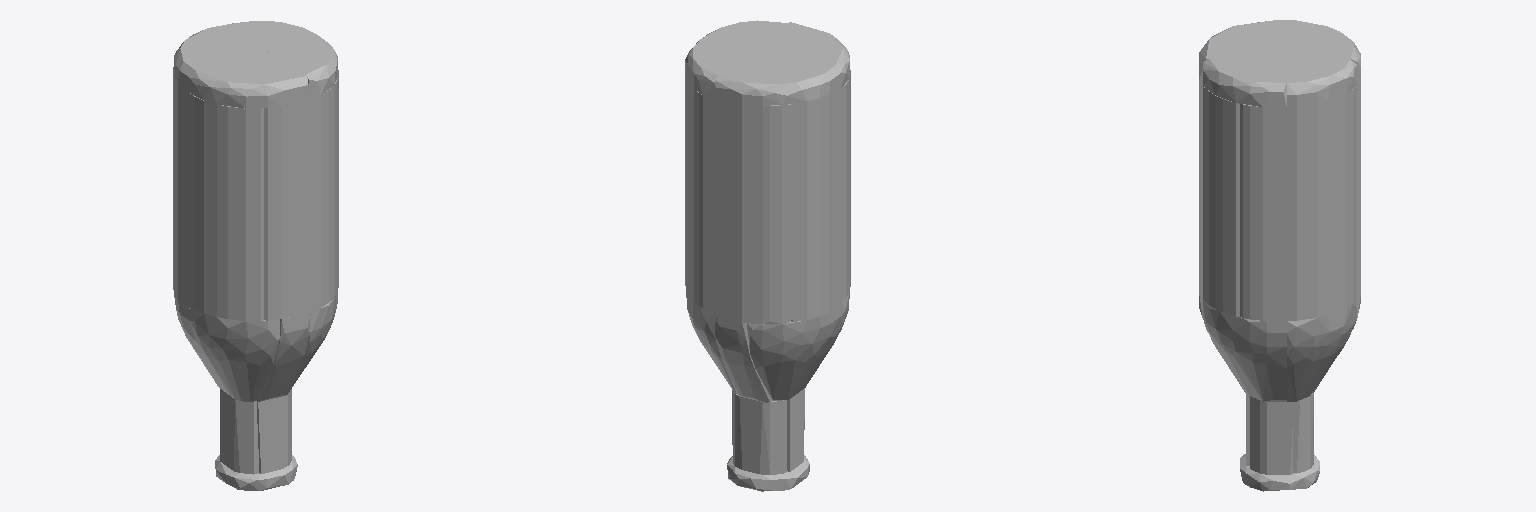
URDF robot description (root):
<robot name="root">
  <link name="link_d851cbc873de1c4d3b6eb309177a6753_convex_piece_0">
    <inertial>
      <origin rpy="0 0 0" xyz="0 0 0"/>
      <mass value="9.57E-07"/>
      <inertia ixx="3.82E-09" ixy="2.97E-13" ixz="-2.05E-13" iyy="3.82E-09" iyz="1.57E-12" izz="6.26E-11"/>
    </inertial>
    <visual>
      <origin rpy="0 0 0" xyz="0 0 0"/>
      <geometry>
        <mesh filename="d851cbc873de1c4d3b6eb309177a6753_convex_piece_0.obj" scale="1.0000E+00"/>
      </geometry>
      <material name="">
        <color rgba="7.50E-01 7.50E-01 7.50E-01 1"/>
      </material>
    </visual>
    <collision>
      <origin rpy="0 0 0" xyz="0 0 0"/>
      <geometry>
        <mesh filename="d851cbc873de1c4d3b6eb309177a6753_convex_piece_0.obj" scale="1.0000E+00"/>
      </geometry>
    </collision>
  </link>
  <link name="link_d851cbc873de1c4d3b6eb309177a6753_convex_piece_1">
    <inertial>
      <origin rpy="0 0 0" xyz="0 0 0"/>
      <mass value="8.84E-08"/>
      <inertia ixx="2.17E-10" ixy="1.39E-13" ixz="6.87E-13" iyy="2.10E-10" iyz="4.02E-11" izz="7.75E-12"/>
    </inertial>
    <visual>
      <origin rpy="0 0 0" xyz="0 0 0"/>
      <geometry>
        <mesh filename="d851cbc873de1c4d3b6eb309177a6753_convex_piece_1.obj" scale="1.0000E+00"/>
      </geometry>
      <material name="">
        <color rgba="7.50E-01 7.50E-01 7.50E-01 1"/>
      </material>
    </visual>
    <collision>
      <origin rpy="0 0 0" xyz="0 0 0"/>
      <geometry>
        <mesh filename="d851cbc873de1c4d3b6eb309177a6753_convex_piece_1.obj" scale="1.0000E+00"/>
      </geometry>
    </collision>
  </link>
  <joint name="link_d851cbc873de1c4d3b6eb309177a6753_convex_piece_1_joint" type="fixed">
    <origin rpy="0 0 0" xyz="0 0 0"/>
    <parent link="link_d851cbc873de1c4d3b6eb309177a6753_convex_piece_0"/>
    <child link="link_d851cbc873de1c4d3b6eb309177a6753_convex_piece_1"/>
  </joint>
  <link name="link_d851cbc873de1c4d3b6eb309177a6753_convex_piece_2">
    <inertial>
      <origin rpy="0 0 0" xyz="0 0 0"/>
      <mass value="9.40E-07"/>
      <inertia ixx="2.29E-09" ixy="3.52E-13" ixz="-2.58E-12" iyy="2.26E-09" iyz="-3.07E-10" izz="6.02E-11"/>
    </inertial>
    <visual>
      <origin rpy="0 0 0" xyz="0 0 0"/>
      <geometry>
        <mesh filename="d851cbc873de1c4d3b6eb309177a6753_convex_piece_2.obj" scale="1.0000E+00"/>
      </geometry>
      <material name="">
        <color rgba="7.50E-01 7.50E-01 7.50E-01 1"/>
      </material>
    </visual>
    <collision>
      <origin rpy="0 0 0" xyz="0 0 0"/>
      <geometry>
        <mesh filename="d851cbc873de1c4d3b6eb309177a6753_convex_piece_2.obj" scale="1.0000E+00"/>
      </geometry>
    </collision>
  </link>
  <joint name="link_d851cbc873de1c4d3b6eb309177a6753_convex_piece_2_joint" type="fixed">
    <origin rpy="0 0 0" xyz="0 0 0"/>
    <parent link="link_d851cbc873de1c4d3b6eb309177a6753_convex_piece_1"/>
    <child link="link_d851cbc873de1c4d3b6eb309177a6753_convex_piece_2"/>
  </joint>
  <link name="link_d851cbc873de1c4d3b6eb309177a6753_convex_piece_3">
    <inertial>
      <origin rpy="0 0 0" xyz="0 0 0"/>
      <mass value="1.51E-06"/>
      <inertia ixx="6.04E-09" ixy="1.08E-10" ixz="-7.04E-10" iyy="5.96E-09" iyz="-1.09E-09" izz="4.06E-10"/>
    </inertial>
    <visual>
      <origin rpy="0 0 0" xyz="0 0 0"/>
      <geometry>
        <mesh filename="d851cbc873de1c4d3b6eb309177a6753_convex_piece_3.obj" scale="1.0000E+00"/>
      </geometry>
      <material name="">
        <color rgba="7.50E-01 7.50E-01 7.50E-01 1"/>
      </material>
    </visual>
    <collision>
      <origin rpy="0 0 0" xyz="0 0 0"/>
      <geometry>
        <mesh filename="d851cbc873de1c4d3b6eb309177a6753_convex_piece_3.obj" scale="1.0000E+00"/>
      </geometry>
    </collision>
  </link>
  <joint name="link_d851cbc873de1c4d3b6eb309177a6753_convex_piece_3_joint" type="fixed">
    <origin rpy="0 0 0" xyz="0 0 0"/>
    <parent link="link_d851cbc873de1c4d3b6eb309177a6753_convex_piece_2"/>
    <child link="link_d851cbc873de1c4d3b6eb309177a6753_convex_piece_3"/>
  </joint>
  <link name="link_d851cbc873de1c4d3b6eb309177a6753_convex_piece_4">
    <inertial>
      <origin rpy="0 0 0" xyz="0 0 0"/>
      <mass value="1.60E-06"/>
      <inertia ixx="6.42E-09" ixy="-9.16E-11" ixz="-7.67E-10" iyy="6.39E-09" iyz="9.49E-10" izz="3.89E-10"/>
    </inertial>
    <visual>
      <origin rpy="0 0 0" xyz="0 0 0"/>
      <geometry>
        <mesh filename="d851cbc873de1c4d3b6eb309177a6753_convex_piece_4.obj" scale="1.0000E+00"/>
      </geometry>
      <material name="">
        <color rgba="7.50E-01 7.50E-01 7.50E-01 1"/>
      </material>
    </visual>
    <collision>
      <origin rpy="0 0 0" xyz="0 0 0"/>
      <geometry>
        <mesh filename="d851cbc873de1c4d3b6eb309177a6753_convex_piece_4.obj" scale="1.0000E+00"/>
      </geometry>
    </collision>
  </link>
  <joint name="link_d851cbc873de1c4d3b6eb309177a6753_convex_piece_4_joint" type="fixed">
    <origin rpy="0 0 0" xyz="0 0 0"/>
    <parent link="link_d851cbc873de1c4d3b6eb309177a6753_convex_piece_3"/>
    <child link="link_d851cbc873de1c4d3b6eb309177a6753_convex_piece_4"/>
  </joint>
  <link name="link_d851cbc873de1c4d3b6eb309177a6753_convex_piece_5">
    <inertial>
      <origin rpy="0 0 0" xyz="0 0 0"/>
      <mass value="1.09E-06"/>
      <inertia ixx="4.28E-09" ixy="-1.06E-10" ixz="8.84E-10" iyy="4.36E-09" iyz="-5.76E-10" izz="3.24E-10"/>
    </inertial>
    <visual>
      <origin rpy="0 0 0" xyz="0 0 0"/>
      <geometry>
        <mesh filename="d851cbc873de1c4d3b6eb309177a6753_convex_piece_5.obj" scale="1.0000E+00"/>
      </geometry>
      <material name="">
        <color rgba="7.50E-01 7.50E-01 7.50E-01 1"/>
      </material>
    </visual>
    <collision>
      <origin rpy="0 0 0" xyz="0 0 0"/>
      <geometry>
        <mesh filename="d851cbc873de1c4d3b6eb309177a6753_convex_piece_5.obj" scale="1.0000E+00"/>
      </geometry>
    </collision>
  </link>
  <joint name="link_d851cbc873de1c4d3b6eb309177a6753_convex_piece_5_joint" type="fixed">
    <origin rpy="0 0 0" xyz="0 0 0"/>
    <parent link="link_d851cbc873de1c4d3b6eb309177a6753_convex_piece_4"/>
    <child link="link_d851cbc873de1c4d3b6eb309177a6753_convex_piece_5"/>
  </joint>
  <link name="link_d851cbc873de1c4d3b6eb309177a6753_convex_piece_6">
    <inertial>
      <origin rpy="0 0 0" xyz="0 0 0"/>
      <mass value="8.54E-07"/>
      <inertia ixx="3.39E-09" ixy="1.04E-10" ixz="6.76E-10" iyy="3.43E-09" iyz="5.68E-10" izz="2.70E-10"/>
    </inertial>
    <visual>
      <origin rpy="0 0 0" xyz="0 0 0"/>
      <geometry>
        <mesh filename="d851cbc873de1c4d3b6eb309177a6753_convex_piece_6.obj" scale="1.0000E+00"/>
      </geometry>
      <material name="">
        <color rgba="7.50E-01 7.50E-01 7.50E-01 1"/>
      </material>
    </visual>
    <collision>
      <origin rpy="0 0 0" xyz="0 0 0"/>
      <geometry>
        <mesh filename="d851cbc873de1c4d3b6eb309177a6753_convex_piece_6.obj" scale="1.0000E+00"/>
      </geometry>
    </collision>
  </link>
  <joint name="link_d851cbc873de1c4d3b6eb309177a6753_convex_piece_6_joint" type="fixed">
    <origin rpy="0 0 0" xyz="0 0 0"/>
    <parent link="link_d851cbc873de1c4d3b6eb309177a6753_convex_piece_5"/>
    <child link="link_d851cbc873de1c4d3b6eb309177a6753_convex_piece_6"/>
  </joint>
  <link name="link_d851cbc873de1c4d3b6eb309177a6753_convex_piece_7">
    <inertial>
      <origin rpy="0 0 0" xyz="0 0 0"/>
      <mass value="9.23E-07"/>
      <inertia ixx="2.22E-09" ixy="1.02E-11" ixz="2.61E-10" iyy="2.24E-09" iyz="1.19E-10" izz="5.03E-11"/>
    </inertial>
    <visual>
      <origin rpy="0 0 0" xyz="0 0 0"/>
      <geometry>
        <mesh filename="d851cbc873de1c4d3b6eb309177a6753_convex_piece_7.obj" scale="1.0000E+00"/>
      </geometry>
      <material name="">
        <color rgba="7.50E-01 7.50E-01 7.50E-01 1"/>
      </material>
    </visual>
    <collision>
      <origin rpy="0 0 0" xyz="0 0 0"/>
      <geometry>
        <mesh filename="d851cbc873de1c4d3b6eb309177a6753_convex_piece_7.obj" scale="1.0000E+00"/>
      </geometry>
    </collision>
  </link>
  <joint name="link_d851cbc873de1c4d3b6eb309177a6753_convex_piece_7_joint" type="fixed">
    <origin rpy="0 0 0" xyz="0 0 0"/>
    <parent link="link_d851cbc873de1c4d3b6eb309177a6753_convex_piece_6"/>
    <child link="link_d851cbc873de1c4d3b6eb309177a6753_convex_piece_7"/>
  </joint>
  <link name="link_d851cbc873de1c4d3b6eb309177a6753_convex_piece_8">
    <inertial>
      <origin rpy="0 0 0" xyz="0 0 0"/>
      <mass value="1.05E-06"/>
      <inertia ixx="2.54E-09" ixy="-1.07E-11" ixz="-2.73E-10" iyy="2.55E-09" iyz="1.50E-10" izz="5.55E-11"/>
    </inertial>
    <visual>
      <origin rpy="0 0 0" xyz="0 0 0"/>
      <geometry>
        <mesh filename="d851cbc873de1c4d3b6eb309177a6753_convex_piece_8.obj" scale="1.0000E+00"/>
      </geometry>
      <material name="">
        <color rgba="7.50E-01 7.50E-01 7.50E-01 1"/>
      </material>
    </visual>
    <collision>
      <origin rpy="0 0 0" xyz="0 0 0"/>
      <geometry>
        <mesh filename="d851cbc873de1c4d3b6eb309177a6753_convex_piece_8.obj" scale="1.0000E+00"/>
      </geometry>
    </collision>
  </link>
  <joint name="link_d851cbc873de1c4d3b6eb309177a6753_convex_piece_8_joint" type="fixed">
    <origin rpy="0 0 0" xyz="0 0 0"/>
    <parent link="link_d851cbc873de1c4d3b6eb309177a6753_convex_piece_7"/>
    <child link="link_d851cbc873de1c4d3b6eb309177a6753_convex_piece_8"/>
  </joint>
  <link name="link_d851cbc873de1c4d3b6eb309177a6753_convex_piece_9">
    <inertial>
      <origin rpy="0 0 0" xyz="0 0 0"/>
      <mass value="2.79E-06"/>
      <inertia ixx="9.87E-10" ixy="-2.48E-10" ixz="-6.33E-10" iyy="1.19E-09" iyz="3.92E-10" izz="7.50E-10"/>
    </inertial>
    <visual>
      <origin rpy="0 0 0" xyz="0 0 0"/>
      <geometry>
        <mesh filename="d851cbc873de1c4d3b6eb309177a6753_convex_piece_9.obj" scale="1.0000E+00"/>
      </geometry>
      <material name="">
        <color rgba="7.50E-01 7.50E-01 7.50E-01 1"/>
      </material>
    </visual>
    <collision>
      <origin rpy="0 0 0" xyz="0 0 0"/>
      <geometry>
        <mesh filename="d851cbc873de1c4d3b6eb309177a6753_convex_piece_9.obj" scale="1.0000E+00"/>
      </geometry>
    </collision>
  </link>
  <joint name="link_d851cbc873de1c4d3b6eb309177a6753_convex_piece_9_joint" type="fixed">
    <origin rpy="0 0 0" xyz="0 0 0"/>
    <parent link="link_d851cbc873de1c4d3b6eb309177a6753_convex_piece_8"/>
    <child link="link_d851cbc873de1c4d3b6eb309177a6753_convex_piece_9"/>
  </joint>
  <link name="link_d851cbc873de1c4d3b6eb309177a6753_convex_piece_10">
    <inertial>
      <origin rpy="0 0 0" xyz="0 0 0"/>
      <mass value="2.13E-06"/>
      <inertia ixx="7.68E-10" ixy="2.39E-10" ixz="-4.61E-10" iyy="8.51E-10" iyz="-3.80E-10" izz="6.10E-10"/>
    </inertial>
    <visual>
      <origin rpy="0 0 0" xyz="0 0 0"/>
      <geometry>
        <mesh filename="d851cbc873de1c4d3b6eb309177a6753_convex_piece_10.obj" scale="1.0000E+00"/>
      </geometry>
      <material name="">
        <color rgba="7.50E-01 7.50E-01 7.50E-01 1"/>
      </material>
    </visual>
    <collision>
      <origin rpy="0 0 0" xyz="0 0 0"/>
      <geometry>
        <mesh filename="d851cbc873de1c4d3b6eb309177a6753_convex_piece_10.obj" scale="1.0000E+00"/>
      </geometry>
    </collision>
  </link>
  <joint name="link_d851cbc873de1c4d3b6eb309177a6753_convex_piece_10_joint" type="fixed">
    <origin rpy="0 0 0" xyz="0 0 0"/>
    <parent link="link_d851cbc873de1c4d3b6eb309177a6753_convex_piece_9"/>
    <child link="link_d851cbc873de1c4d3b6eb309177a6753_convex_piece_10"/>
  </joint>
  <link name="link_d851cbc873de1c4d3b6eb309177a6753_convex_piece_11">
    <inertial>
      <origin rpy="0 0 0" xyz="0 0 0"/>
      <mass value="5.40E-06"/>
      <inertia ixx="5.74E-09" ixy="8.70E-10" ixz="2.06E-09" iyy="5.99E-09" iyz="1.79E-09" izz="2.25E-09"/>
    </inertial>
    <visual>
      <origin rpy="0 0 0" xyz="0 0 0"/>
      <geometry>
        <mesh filename="d851cbc873de1c4d3b6eb309177a6753_convex_piece_11.obj" scale="1.0000E+00"/>
      </geometry>
      <material name="">
        <color rgba="7.50E-01 7.50E-01 7.50E-01 1"/>
      </material>
    </visual>
    <collision>
      <origin rpy="0 0 0" xyz="0 0 0"/>
      <geometry>
        <mesh filename="d851cbc873de1c4d3b6eb309177a6753_convex_piece_11.obj" scale="1.0000E+00"/>
      </geometry>
    </collision>
  </link>
  <joint name="link_d851cbc873de1c4d3b6eb309177a6753_convex_piece_11_joint" type="fixed">
    <origin rpy="0 0 0" xyz="0 0 0"/>
    <parent link="link_d851cbc873de1c4d3b6eb309177a6753_convex_piece_10"/>
    <child link="link_d851cbc873de1c4d3b6eb309177a6753_convex_piece_11"/>
  </joint>
  <link name="link_d851cbc873de1c4d3b6eb309177a6753_convex_piece_12">
    <inertial>
      <origin rpy="0 0 0" xyz="0 0 0"/>
      <mass value="2.19E-06"/>
      <inertia ixx="7.92E-10" ixy="2.42E-10" ixz="4.72E-10" iyy="8.76E-10" iyz="3.88E-10" izz="6.23E-10"/>
    </inertial>
    <visual>
      <origin rpy="0 0 0" xyz="0 0 0"/>
      <geometry>
        <mesh filename="d851cbc873de1c4d3b6eb309177a6753_convex_piece_12.obj" scale="1.0000E+00"/>
      </geometry>
      <material name="">
        <color rgba="7.50E-01 7.50E-01 7.50E-01 1"/>
      </material>
    </visual>
    <collision>
      <origin rpy="0 0 0" xyz="0 0 0"/>
      <geometry>
        <mesh filename="d851cbc873de1c4d3b6eb309177a6753_convex_piece_12.obj" scale="1.0000E+00"/>
      </geometry>
    </collision>
  </link>
  <joint name="link_d851cbc873de1c4d3b6eb309177a6753_convex_piece_12_joint" type="fixed">
    <origin rpy="0 0 0" xyz="0 0 0"/>
    <parent link="link_d851cbc873de1c4d3b6eb309177a6753_convex_piece_11"/>
    <child link="link_d851cbc873de1c4d3b6eb309177a6753_convex_piece_12"/>
  </joint>
  <link name="link_d851cbc873de1c4d3b6eb309177a6753_convex_piece_13">
    <inertial>
      <origin rpy="0 0 0" xyz="0 0 0"/>
      <mass value="1.19E-06"/>
      <inertia ixx="7.55E-10" ixy="-1.30E-12" ixz="-2.41E-12" iyy="5.05E-10" iyz="3.47E-10" izz="2.68E-10"/>
    </inertial>
    <visual>
      <origin rpy="0 0 0" xyz="0 0 0"/>
      <geometry>
        <mesh filename="d851cbc873de1c4d3b6eb309177a6753_convex_piece_13.obj" scale="1.0000E+00"/>
      </geometry>
      <material name="">
        <color rgba="7.50E-01 7.50E-01 7.50E-01 1"/>
      </material>
    </visual>
    <collision>
      <origin rpy="0 0 0" xyz="0 0 0"/>
      <geometry>
        <mesh filename="d851cbc873de1c4d3b6eb309177a6753_convex_piece_13.obj" scale="1.0000E+00"/>
      </geometry>
    </collision>
  </link>
  <joint name="link_d851cbc873de1c4d3b6eb309177a6753_convex_piece_13_joint" type="fixed">
    <origin rpy="0 0 0" xyz="0 0 0"/>
    <parent link="link_d851cbc873de1c4d3b6eb309177a6753_convex_piece_12"/>
    <child link="link_d851cbc873de1c4d3b6eb309177a6753_convex_piece_13"/>
  </joint>
  <link name="link_d851cbc873de1c4d3b6eb309177a6753_convex_piece_14">
    <inertial>
      <origin rpy="0 0 0" xyz="0 0 0"/>
      <mass value="4.08E-06"/>
      <inertia ixx="4.18E-09" ixy="7.03E-10" ixz="-1.77E-09" iyy="4.72E-09" iyz="-1.21E-09" izz="1.77E-09"/>
    </inertial>
    <visual>
      <origin rpy="0 0 0" xyz="0 0 0"/>
      <geometry>
        <mesh filename="d851cbc873de1c4d3b6eb309177a6753_convex_piece_14.obj" scale="1.0000E+00"/>
      </geometry>
      <material name="">
        <color rgba="7.50E-01 7.50E-01 7.50E-01 1"/>
      </material>
    </visual>
    <collision>
      <origin rpy="0 0 0" xyz="0 0 0"/>
      <geometry>
        <mesh filename="d851cbc873de1c4d3b6eb309177a6753_convex_piece_14.obj" scale="1.0000E+00"/>
      </geometry>
    </collision>
  </link>
  <joint name="link_d851cbc873de1c4d3b6eb309177a6753_convex_piece_14_joint" type="fixed">
    <origin rpy="0 0 0" xyz="0 0 0"/>
    <parent link="link_d851cbc873de1c4d3b6eb309177a6753_convex_piece_13"/>
    <child link="link_d851cbc873de1c4d3b6eb309177a6753_convex_piece_14"/>
  </joint>
  <link name="link_d851cbc873de1c4d3b6eb309177a6753_convex_piece_15">
    <inertial>
      <origin rpy="0 0 0" xyz="0 0 0"/>
      <mass value="2.46E-06"/>
      <inertia ixx="3.03E-09" ixy="1.22E-10" ixz="-1.60E-10" iyy="2.08E-09" iyz="-1.26E-09" izz="1.06E-09"/>
    </inertial>
    <visual>
      <origin rpy="0 0 0" xyz="0 0 0"/>
      <geometry>
        <mesh filename="d851cbc873de1c4d3b6eb309177a6753_convex_piece_15.obj" scale="1.0000E+00"/>
      </geometry>
      <material name="">
        <color rgba="7.50E-01 7.50E-01 7.50E-01 1"/>
      </material>
    </visual>
    <collision>
      <origin rpy="0 0 0" xyz="0 0 0"/>
      <geometry>
        <mesh filename="d851cbc873de1c4d3b6eb309177a6753_convex_piece_15.obj" scale="1.0000E+00"/>
      </geometry>
    </collision>
  </link>
  <joint name="link_d851cbc873de1c4d3b6eb309177a6753_convex_piece_15_joint" type="fixed">
    <origin rpy="0 0 0" xyz="0 0 0"/>
    <parent link="link_d851cbc873de1c4d3b6eb309177a6753_convex_piece_14"/>
    <child link="link_d851cbc873de1c4d3b6eb309177a6753_convex_piece_15"/>
  </joint>
  <link name="link_d851cbc873de1c4d3b6eb309177a6753_convex_piece_16">
    <inertial>
      <origin rpy="0 0 0" xyz="0 0 0"/>
      <mass value="2.49E-06"/>
      <inertia ixx="8.88E-10" ixy="-2.23E-10" ixz="5.89E-10" iyy="1.09E-09" iyz="-3.48E-10" izz="6.68E-10"/>
    </inertial>
    <visual>
      <origin rpy="0 0 0" xyz="0 0 0"/>
      <geometry>
        <mesh filename="d851cbc873de1c4d3b6eb309177a6753_convex_piece_16.obj" scale="1.0000E+00"/>
      </geometry>
      <material name="">
        <color rgba="7.50E-01 7.50E-01 7.50E-01 1"/>
      </material>
    </visual>
    <collision>
      <origin rpy="0 0 0" xyz="0 0 0"/>
      <geometry>
        <mesh filename="d851cbc873de1c4d3b6eb309177a6753_convex_piece_16.obj" scale="1.0000E+00"/>
      </geometry>
    </collision>
  </link>
  <joint name="link_d851cbc873de1c4d3b6eb309177a6753_convex_piece_16_joint" type="fixed">
    <origin rpy="0 0 0" xyz="0 0 0"/>
    <parent link="link_d851cbc873de1c4d3b6eb309177a6753_convex_piece_15"/>
    <child link="link_d851cbc873de1c4d3b6eb309177a6753_convex_piece_16"/>
  </joint>
  <link name="link_d851cbc873de1c4d3b6eb309177a6753_convex_piece_17">
    <inertial>
      <origin rpy="0 0 0" xyz="0 0 0"/>
      <mass value="1.35E-06"/>
      <inertia ixx="8.78E-10" ixy="-8.11E-12" ixz="1.53E-11" iyy="6.11E-10" iyz="-3.91E-10" izz="2.92E-10"/>
    </inertial>
    <visual>
      <origin rpy="0 0 0" xyz="0 0 0"/>
      <geometry>
        <mesh filename="d851cbc873de1c4d3b6eb309177a6753_convex_piece_17.obj" scale="1.0000E+00"/>
      </geometry>
      <material name="">
        <color rgba="7.50E-01 7.50E-01 7.50E-01 1"/>
      </material>
    </visual>
    <collision>
      <origin rpy="0 0 0" xyz="0 0 0"/>
      <geometry>
        <mesh filename="d851cbc873de1c4d3b6eb309177a6753_convex_piece_17.obj" scale="1.0000E+00"/>
      </geometry>
    </collision>
  </link>
  <joint name="link_d851cbc873de1c4d3b6eb309177a6753_convex_piece_17_joint" type="fixed">
    <origin rpy="0 0 0" xyz="0 0 0"/>
    <parent link="link_d851cbc873de1c4d3b6eb309177a6753_convex_piece_16"/>
    <child link="link_d851cbc873de1c4d3b6eb309177a6753_convex_piece_17"/>
  </joint>
  <link name="link_d851cbc873de1c4d3b6eb309177a6753_convex_piece_18">
    <inertial>
      <origin rpy="0 0 0" xyz="0 0 0"/>
      <mass value="3.88E-06"/>
      <inertia ixx="3.80E-09" ixy="-4.94E-10" ixz="-1.86E-09" iyy="4.81E-09" iyz="7.65E-10" izz="1.61E-09"/>
    </inertial>
    <visual>
      <origin rpy="0 0 0" xyz="0 0 0"/>
      <geometry>
        <mesh filename="d851cbc873de1c4d3b6eb309177a6753_convex_piece_18.obj" scale="1.0000E+00"/>
      </geometry>
      <material name="">
        <color rgba="7.50E-01 7.50E-01 7.50E-01 1"/>
      </material>
    </visual>
    <collision>
      <origin rpy="0 0 0" xyz="0 0 0"/>
      <geometry>
        <mesh filename="d851cbc873de1c4d3b6eb309177a6753_convex_piece_18.obj" scale="1.0000E+00"/>
      </geometry>
    </collision>
  </link>
  <joint name="link_d851cbc873de1c4d3b6eb309177a6753_convex_piece_18_joint" type="fixed">
    <origin rpy="0 0 0" xyz="0 0 0"/>
    <parent link="link_d851cbc873de1c4d3b6eb309177a6753_convex_piece_17"/>
    <child link="link_d851cbc873de1c4d3b6eb309177a6753_convex_piece_18"/>
  </joint>
  <link name="link_d851cbc873de1c4d3b6eb309177a6753_convex_piece_19">
    <inertial>
      <origin rpy="0 0 0" xyz="0 0 0"/>
      <mass value="3.92E-06"/>
      <inertia ixx="5.01E-09" ixy="-3.76E-10" ixz="-5.49E-10" iyy="3.77E-09" iyz="2.00E-09" izz="1.71E-09"/>
    </inertial>
    <visual>
      <origin rpy="0 0 0" xyz="0 0 0"/>
      <geometry>
        <mesh filename="d851cbc873de1c4d3b6eb309177a6753_convex_piece_19.obj" scale="1.0000E+00"/>
      </geometry>
      <material name="">
        <color rgba="7.50E-01 7.50E-01 7.50E-01 1"/>
      </material>
    </visual>
    <collision>
      <origin rpy="0 0 0" xyz="0 0 0"/>
      <geometry>
        <mesh filename="d851cbc873de1c4d3b6eb309177a6753_convex_piece_19.obj" scale="1.0000E+00"/>
      </geometry>
    </collision>
  </link>
  <joint name="link_d851cbc873de1c4d3b6eb309177a6753_convex_piece_19_joint" type="fixed">
    <origin rpy="0 0 0" xyz="0 0 0"/>
    <parent link="link_d851cbc873de1c4d3b6eb309177a6753_convex_piece_18"/>
    <child link="link_d851cbc873de1c4d3b6eb309177a6753_convex_piece_19"/>
  </joint>
  <link name="link_d851cbc873de1c4d3b6eb309177a6753_convex_piece_20">
    <inertial>
      <origin rpy="0 0 0" xyz="0 0 0"/>
      <mass value="2.81E-06"/>
      <inertia ixx="3.25E-09" ixy="-5.45E-10" ixz="8.91E-10" iyy="2.89E-09" iyz="-1.23E-09" izz="1.26E-09"/>
    </inertial>
    <visual>
      <origin rpy="0 0 0" xyz="0 0 0"/>
      <geometry>
        <mesh filename="d851cbc873de1c4d3b6eb309177a6753_convex_piece_20.obj" scale="1.0000E+00"/>
      </geometry>
      <material name="">
        <color rgba="7.50E-01 7.50E-01 7.50E-01 1"/>
      </material>
    </visual>
    <collision>
      <origin rpy="0 0 0" xyz="0 0 0"/>
      <geometry>
        <mesh filename="d851cbc873de1c4d3b6eb309177a6753_convex_piece_20.obj" scale="1.0000E+00"/>
      </geometry>
    </collision>
  </link>
  <joint name="link_d851cbc873de1c4d3b6eb309177a6753_convex_piece_20_joint" type="fixed">
    <origin rpy="0 0 0" xyz="0 0 0"/>
    <parent link="link_d851cbc873de1c4d3b6eb309177a6753_convex_piece_19"/>
    <child link="link_d851cbc873de1c4d3b6eb309177a6753_convex_piece_20"/>
  </joint>
  <link name="link_d851cbc873de1c4d3b6eb309177a6753_convex_piece_21">
    <inertial>
      <origin rpy="0 0 0" xyz="0 0 0"/>
      <mass value="2.42E-06"/>
      <inertia ixx="2.21E-09" ixy="-2.38E-10" ixz="1.26E-09" iyy="3.06E-09" iyz="-3.26E-10" izz="1.05E-09"/>
    </inertial>
    <visual>
      <origin rpy="0 0 0" xyz="0 0 0"/>
      <geometry>
        <mesh filename="d851cbc873de1c4d3b6eb309177a6753_convex_piece_21.obj" scale="1.0000E+00"/>
      </geometry>
      <material name="">
        <color rgba="7.50E-01 7.50E-01 7.50E-01 1"/>
      </material>
    </visual>
    <collision>
      <origin rpy="0 0 0" xyz="0 0 0"/>
      <geometry>
        <mesh filename="d851cbc873de1c4d3b6eb309177a6753_convex_piece_21.obj" scale="1.0000E+00"/>
      </geometry>
    </collision>
  </link>
  <joint name="link_d851cbc873de1c4d3b6eb309177a6753_convex_piece_21_joint" type="fixed">
    <origin rpy="0 0 0" xyz="0 0 0"/>
    <parent link="link_d851cbc873de1c4d3b6eb309177a6753_convex_piece_20"/>
    <child link="link_d851cbc873de1c4d3b6eb309177a6753_convex_piece_21"/>
  </joint>
</robot>

--- Render facts (derived) ---
3 views of the same robot in one strip: view 1: azimuth 30°, elevation 25°; view 2: azimuth 150°, elevation 25°; view 3: azimuth 270°, elevation 25° (orthographic).
Model root with 22 links and 21 joints (21 fixed), rooted at link_d851cbc873de1c4d3b6eb309177a6753_convex_piece_0, posed every joint at zero.
Links seen in each view (by area): view 1: link_d851cbc873de1c4d3b6eb309177a6753_convex_piece_14, link_d851cbc873de1c4d3b6eb309177a6753_convex_piece_15, link_d851cbc873de1c4d3b6eb309177a6753_convex_piece_20, link_d851cbc873de1c4d3b6eb309177a6753_convex_piece_12, link_d851cbc873de1c4d3b6eb309177a6753_convex_piece_3, link_d851cbc873de1c4d3b6eb309177a6753_convex_piece_18, link_d851cbc873de1c4d3b6eb309177a6753_convex_piece_4, link_d851cbc873de1c4d3b6eb309177a6753_convex_piece_7, link_d851cbc873de1c4d3b6eb309177a6753_convex_piece_13, link_d851cbc873de1c4d3b6eb309177a6753_convex_piece_5, link_d851cbc873de1c4d3b6eb309177a6753_convex_piece_1, link_d851cbc873de1c4d3b6eb309177a6753_convex_piece_0 (+4 smaller); view 2: link_d851cbc873de1c4d3b6eb309177a6753_convex_piece_19, link_d851cbc873de1c4d3b6eb309177a6753_convex_piece_18, link_d851cbc873de1c4d3b6eb309177a6753_convex_piece_11, link_d851cbc873de1c4d3b6eb309177a6753_convex_piece_4, link_d851cbc873de1c4d3b6eb309177a6753_convex_piece_16, link_d851cbc873de1c4d3b6eb309177a6753_convex_piece_2, link_d851cbc873de1c4d3b6eb309177a6753_convex_piece_17, link_d851cbc873de1c4d3b6eb309177a6753_convex_piece_3, link_d851cbc873de1c4d3b6eb309177a6753_convex_piece_14, link_d851cbc873de1c4d3b6eb309177a6753_convex_piece_6, link_d851cbc873de1c4d3b6eb309177a6753_convex_piece_5, link_d851cbc873de1c4d3b6eb309177a6753_convex_piece_0 (+2 smaller); view 3: link_d851cbc873de1c4d3b6eb309177a6753_convex_piece_11, link_d851cbc873de1c4d3b6eb309177a6753_convex_piece_21, link_d851cbc873de1c4d3b6eb309177a6753_convex_piece_20, link_d851cbc873de1c4d3b6eb309177a6753_convex_piece_9, link_d851cbc873de1c4d3b6eb309177a6753_convex_piece_10, link_d851cbc873de1c4d3b6eb309177a6753_convex_piece_5, link_d851cbc873de1c4d3b6eb309177a6753_convex_piece_8, link_d851cbc873de1c4d3b6eb309177a6753_convex_piece_6, link_d851cbc873de1c4d3b6eb309177a6753_convex_piece_4, link_d851cbc873de1c4d3b6eb309177a6753_convex_piece_3, link_d851cbc873de1c4d3b6eb309177a6753_convex_piece_2, link_d851cbc873de1c4d3b6eb309177a6753_convex_piece_0 (+2 smaller).
Link boxes in pixels (left/top/right/bottom): link_d851cbc873de1c4d3b6eb309177a6753_convex_piece_14: left=190, top=93, right=263, bottom=320; link_d851cbc873de1c4d3b6eb309177a6753_convex_piece_15: left=264, top=99, right=310, bottom=320; link_d851cbc873de1c4d3b6eb309177a6753_convex_piece_20: left=311, top=75, right=338, bottom=309; link_d851cbc873de1c4d3b6eb309177a6753_convex_piece_12: left=190, top=306, right=279, bottom=401; link_d851cbc873de1c4d3b6eb309177a6753_convex_piece_3: left=190, top=51, right=310, bottom=108; link_d851cbc873de1c4d3b6eb309177a6753_convex_piece_18: left=173, top=71, right=189, bottom=307; link_d851cbc873de1c4d3b6eb309177a6753_convex_piece_4: left=173, top=23, right=272, bottom=89; link_d851cbc873de1c4d3b6eb309177a6753_convex_piece_7: left=220, top=389, right=258, bottom=474; link_d851cbc873de1c4d3b6eb309177a6753_convex_piece_13: left=257, top=312, right=310, bottom=401; link_d851cbc873de1c4d3b6eb309177a6753_convex_piece_5: left=267, top=34, right=338, bottom=97; link_d851cbc873de1c4d3b6eb309177a6753_convex_piece_1: left=257, top=396, right=283, bottom=473; link_d851cbc873de1c4d3b6eb309177a6753_convex_piece_0: left=215, top=455, right=297, bottom=490; link_d851cbc873de1c4d3b6eb309177a6753_convex_piece_19: left=715, top=97, right=792, bottom=323; link_d851cbc873de1c4d3b6eb309177a6753_convex_piece_18: left=791, top=86, right=840, bottom=321; link_d851cbc873de1c4d3b6eb309177a6753_convex_piece_11: left=685, top=72, right=714, bottom=310; link_d851cbc873de1c4d3b6eb309177a6753_convex_piece_4: left=715, top=47, right=840, bottom=105; link_d851cbc873de1c4d3b6eb309177a6753_convex_piece_16: left=747, top=305, right=840, bottom=400; link_d851cbc873de1c4d3b6eb309177a6753_convex_piece_2: left=732, top=390, right=786, bottom=474; link_d851cbc873de1c4d3b6eb309177a6753_convex_piece_17: left=715, top=316, right=771, bottom=402; link_d851cbc873de1c4d3b6eb309177a6753_convex_piece_3: left=757, top=22, right=850, bottom=87; link_d851cbc873de1c4d3b6eb309177a6753_convex_piece_14: left=841, top=73, right=850, bottom=300; link_d851cbc873de1c4d3b6eb309177a6753_convex_piece_6: left=685, top=39, right=749, bottom=97; link_d851cbc873de1c4d3b6eb309177a6753_convex_piece_5: left=696, top=20, right=787, bottom=50; link_d851cbc873de1c4d3b6eb309177a6753_convex_piece_0: left=727, top=455, right=809, bottom=491; link_d851cbc873de1c4d3b6eb309177a6753_convex_piece_11: left=1287, top=87, right=1356, bottom=320; link_d851cbc873de1c4d3b6eb309177a6753_convex_piece_21: left=1240, top=104, right=1286, bottom=320; link_d851cbc873de1c4d3b6eb309177a6753_convex_piece_20: left=1203, top=87, right=1239, bottom=316; link_d851cbc873de1c4d3b6eb309177a6753_convex_piece_9: left=1203, top=300, right=1286, bottom=401; link_d851cbc873de1c4d3b6eb309177a6753_convex_piece_10: left=1287, top=300, right=1356, bottom=401; link_d851cbc873de1c4d3b6eb309177a6753_convex_piece_5: left=1203, top=59, right=1286, bottom=106; link_d851cbc873de1c4d3b6eb309177a6753_convex_piece_8: left=1250, top=396, right=1292, bottom=474; link_d851cbc873de1c4d3b6eb309177a6753_convex_piece_6: left=1287, top=59, right=1356, bottom=106; link_d851cbc873de1c4d3b6eb309177a6753_convex_piece_4: left=1273, top=20, right=1360, bottom=76; link_d851cbc873de1c4d3b6eb309177a6753_convex_piece_3: left=1199, top=21, right=1272, bottom=79; link_d851cbc873de1c4d3b6eb309177a6753_convex_piece_2: left=1293, top=393, right=1313, bottom=472; link_d851cbc873de1c4d3b6eb309177a6753_convex_piece_0: left=1240, top=454, right=1319, bottom=491.
Size in the robot's own frame: 0.0461 by 0.0461 by 0.1335 metres.
22 mesh visuals loaded from 22 distinct referenced files (22 OBJ).